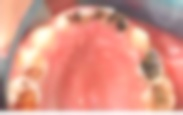Caries: (65, 7, 126, 33), (140, 48, 163, 80)
